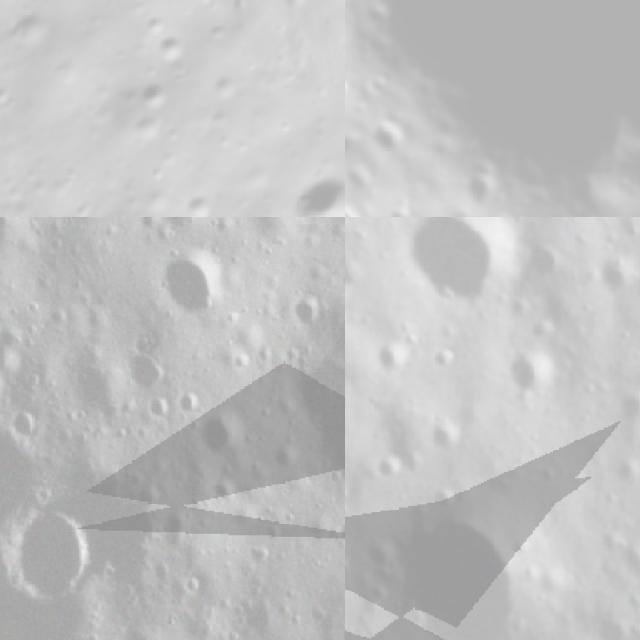crater: (352, 0, 640, 217), (381, 481, 538, 640), (410, 217, 524, 316), (2, 493, 92, 601), (291, 317, 345, 494), (270, 154, 345, 217), (155, 253, 223, 322), (121, 70, 175, 126), (367, 110, 419, 167), (509, 351, 560, 409), (0, 1, 53, 55), (123, 339, 168, 395), (345, 149, 386, 207), (458, 163, 504, 214), (366, 328, 408, 381), (196, 411, 244, 457), (591, 254, 640, 294), (285, 288, 326, 333), (8, 405, 46, 449), (528, 244, 566, 286), (362, 64, 401, 104), (431, 413, 466, 456), (611, 390, 640, 430), (108, 620, 159, 640), (175, 389, 211, 415), (381, 195, 423, 217), (624, 516, 640, 572), (152, 388, 175, 421), (166, 217, 197, 234), (345, 72, 352, 106)
